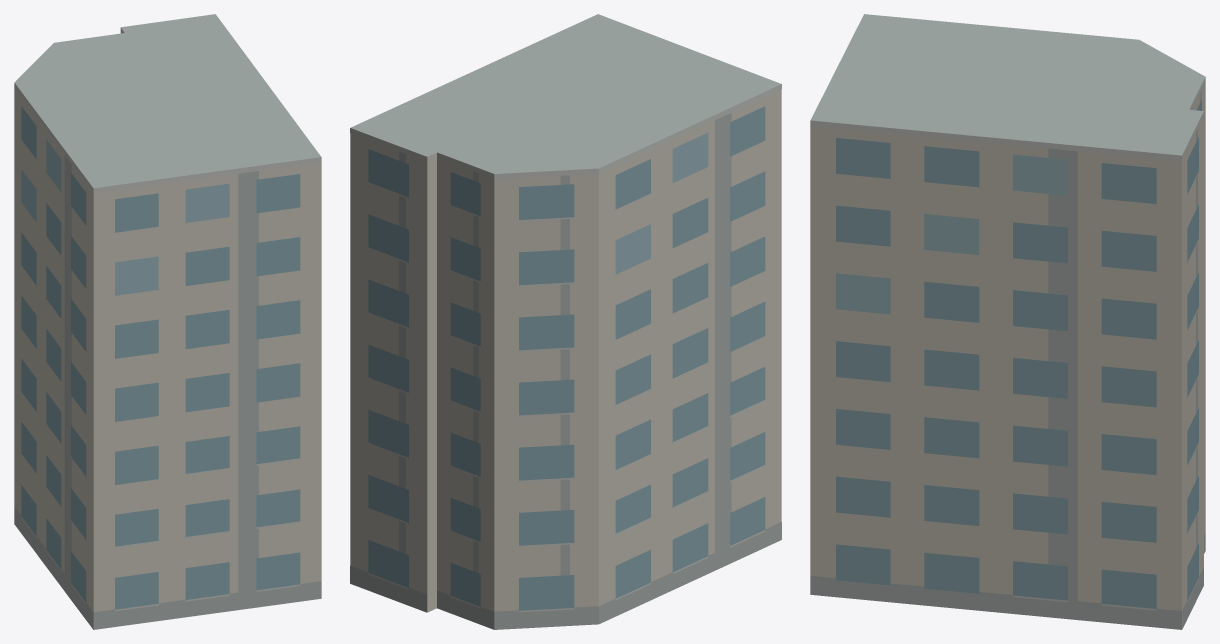
Rendered from survey-upis-32665016.glb.
3 views of the same model, side by side, from view 1: azimuth 30°, elevation 25°; view 2: azimuth 150°, elevation 25°; view 3: azimuth 270°, elevation 25° (orthographic). The views are drawn at different scales.
Parts seen in each view (by area): view 1: survey-upis-32665016.tmp; view 2: survey-upis-32665016.tmp; view 3: survey-upis-32665016.tmp.
Part boxes in pixels (box(x1,y1,x2,y2)): survey-upis-32665016.tmp: box(14, 14, 321, 629); survey-upis-32665016.tmp: box(350, 14, 781, 629); survey-upis-32665016.tmp: box(810, 14, 1205, 629).
Bounding box in the file's own units: 13.2 × 20.6 × 15.57.
